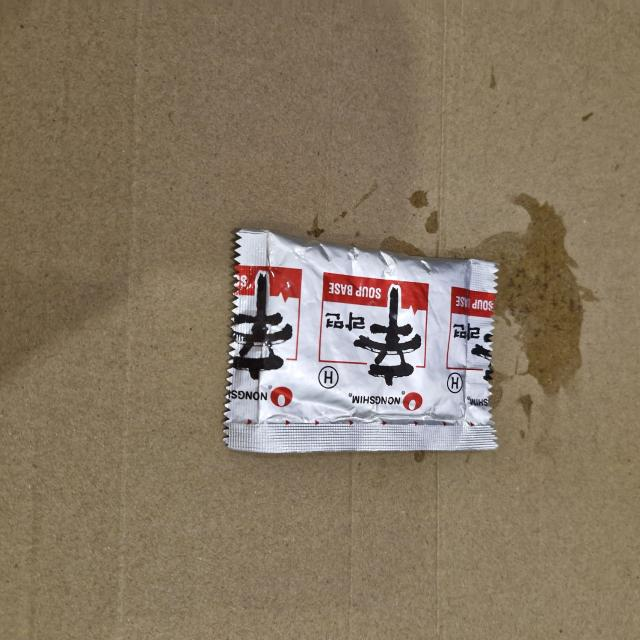plastic: (223, 223, 505, 467)
